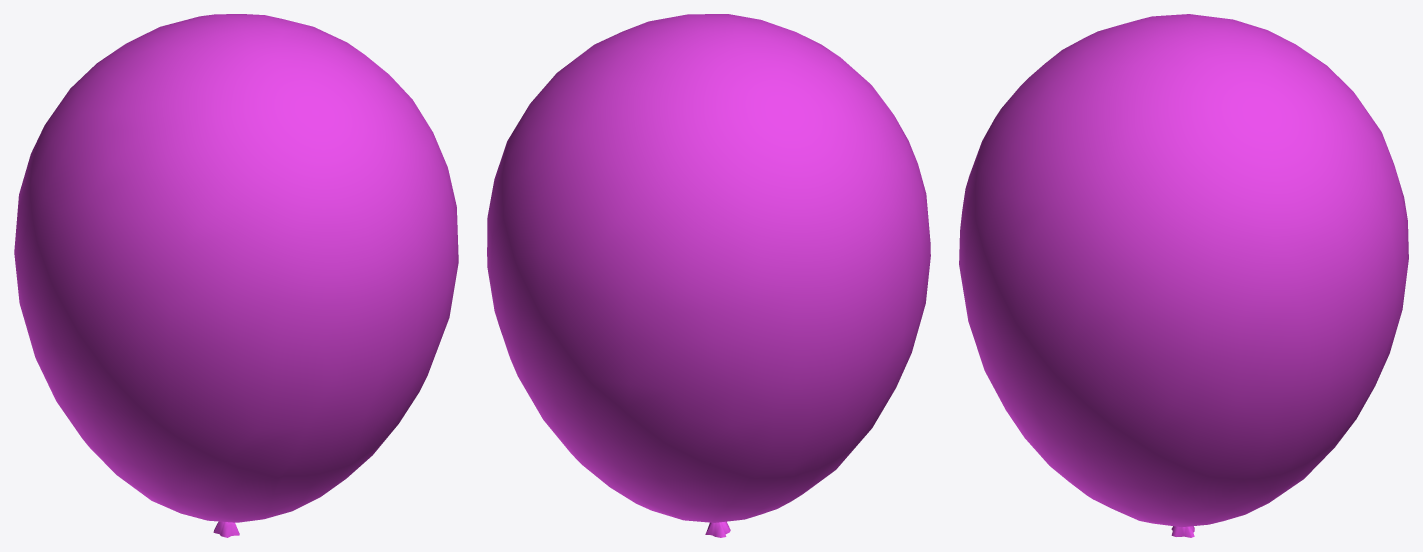
The model's file is balloon.fbx.
3 renders of one model, left to right at view 1: azimuth 30°, elevation 25°; view 2: azimuth 150°, elevation 25°; view 3: azimuth 270°, elevation 25°, orthographic.
Visible parts, largest first — view 1: Sphere.004; view 2: Sphere.004; view 3: Sphere.004.
Boxes of the visible parts, x1=… form: Sphere.004: x1=14, y1=14, x2=458, y2=537; Sphere.004: x1=487, y1=14, x2=930, y2=537; Sphere.004: x1=959, y1=14, x2=1408, y2=537.
Bounding box in the file's own units: 191 × 236 × 191.
